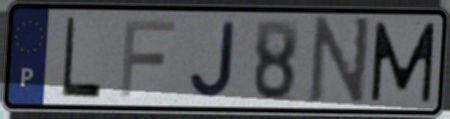8: (251, 17, 301, 105)
F: (117, 17, 178, 101)
J: (186, 18, 239, 101)
L: (59, 14, 104, 101)
M: (368, 20, 439, 105)
N: (305, 14, 374, 109)
